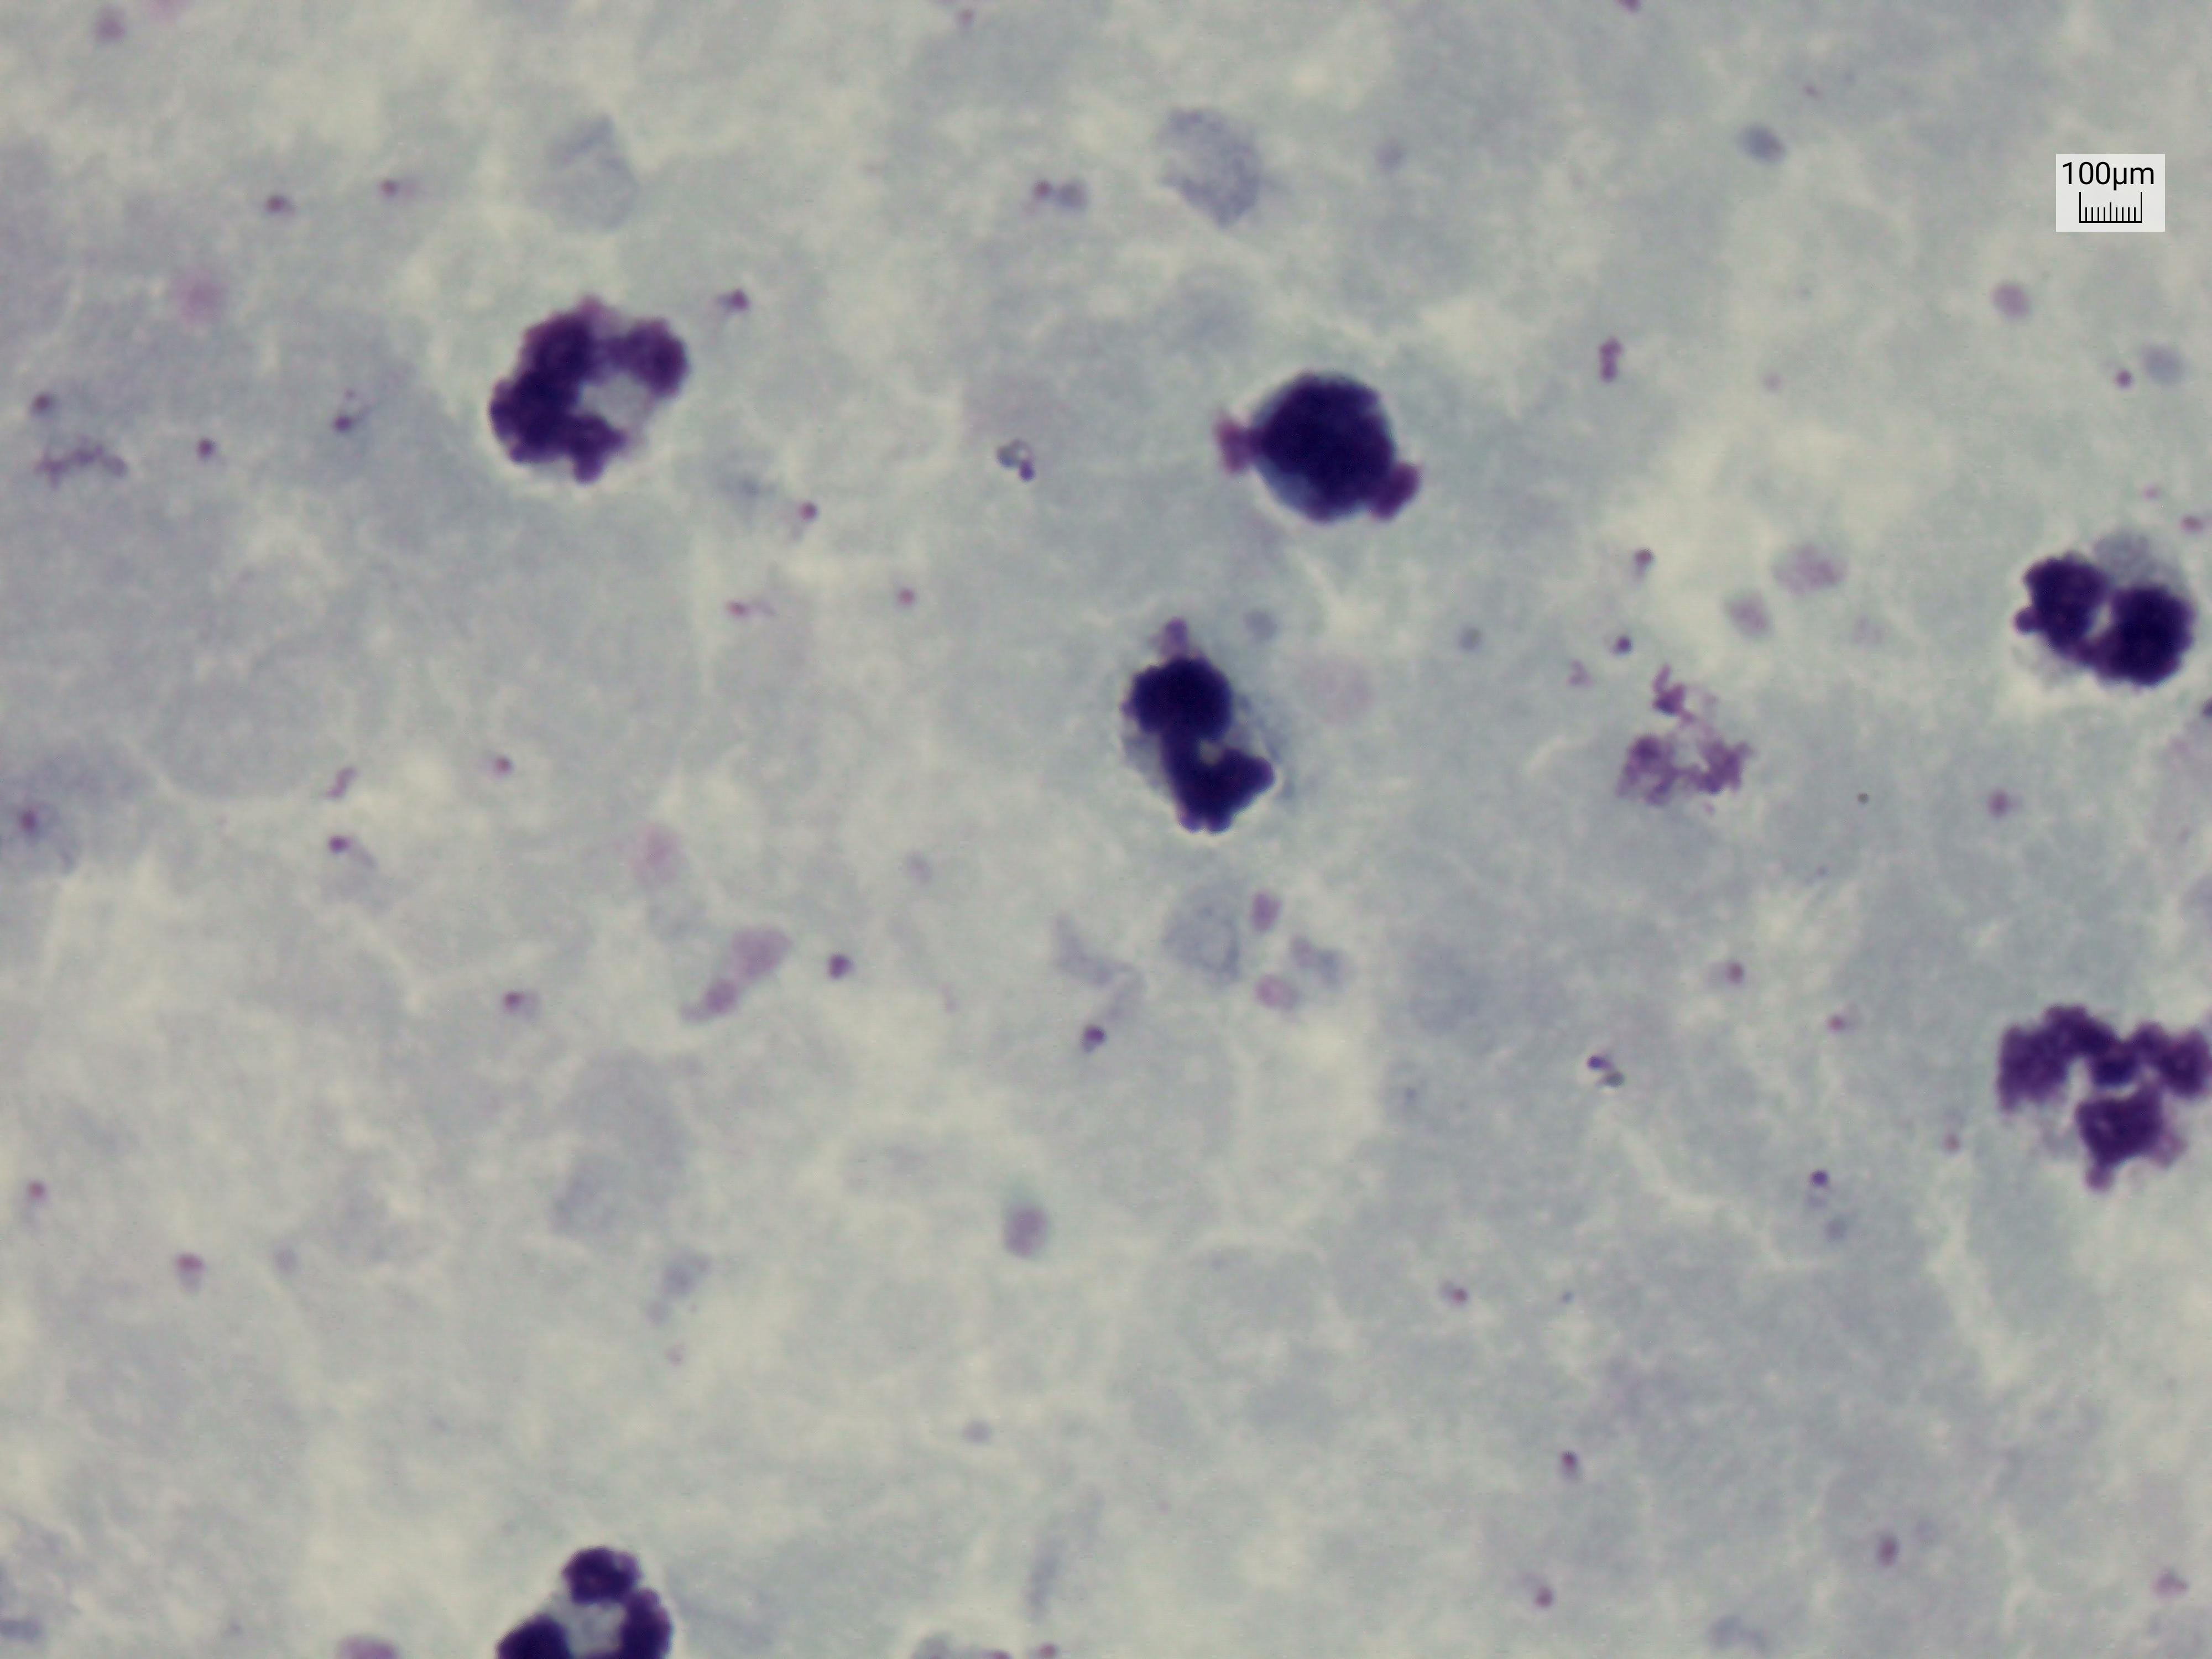p.falciparum: (1559, 321, 1696, 406), (1778, 1136, 1860, 1249), (1907, 1079, 1996, 1178), (1008, 150, 1106, 239), (1129, 579, 1238, 657), (1571, 1026, 1653, 1127), (324, 366, 395, 479), (984, 413, 1059, 516), (1416, 1244, 1498, 1333), (796, 929, 885, 1009), (1853, 1511, 1932, 1601), (160, 408, 244, 491), (711, 570, 796, 650), (0, 791, 87, 870), (1484, 1554, 1571, 1633), (1963, 767, 2041, 852), (354, 146, 427, 232), (145, 1237, 230, 1309), (761, 481, 855, 545), (486, 971, 571, 1037), (10, 1148, 71, 1239), (700, 258, 772, 333), (866, 556, 941, 627), (1604, 523, 1670, 603), (1581, 612, 1656, 681), (2062, 324, 2137, 394), (1062, 1002, 1139, 1070), (481, 734, 538, 821), (307, 819, 385, 882), (1806, 985, 1865, 1066), (1700, 936, 1764, 1011), (1548, 1422, 1608, 1500), (251, 167, 308, 247), (2135, 479, 2212, 535), (10, 371, 77, 430), (935, 0, 1007, 44)
